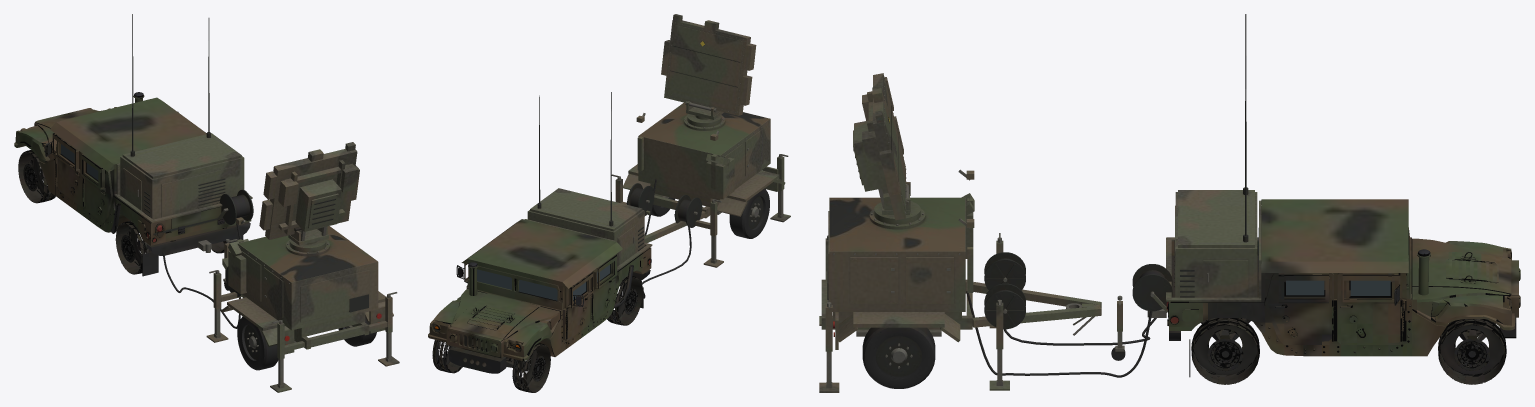
3 views of the same model, side by side, from view 1: azimuth 30°, elevation 25°; view 2: azimuth 150°, elevation 25°; view 3: azimuth 270°, elevation 25° (orthographic). The views are drawn at different scales.
Visible parts, largest first — view 1: body|SN_atlas, body|HUM_atlas, radar|SN_atlas; view 2: body|HUM_atlas, body|SN_atlas, radar|SN_atlas, body|HUM_glass; view 3: body|SN_atlas, body|HUM_atlas, radar|SN_atlas, body|HUM_glass.
Part boxes in pixels (x1=…): body|SN_atlas: x1=114, y1=14, x2=399, y2=392; body|HUM_atlas: x1=14, y1=92, x2=251, y2=274; radar|SN_atlas: x1=259, y1=142, x2=359, y2=252; body|HUM_atlas: x1=428, y1=219, x2=651, y2=392; body|SN_atlas: x1=524, y1=92, x2=790, y2=308; radar|SN_atlas: x1=661, y1=14, x2=756, y2=127; body|HUM_glass: x1=477, y1=264, x2=610, y2=300; body|SN_atlas: x1=819, y1=14, x2=1261, y2=392; body|HUM_atlas: x1=1166, y1=199, x2=1520, y2=384; radar|SN_atlas: x1=853, y1=73, x2=920, y2=224; body|HUM_glass: x1=1286, y1=280, x2=1390, y2=295.
Bounding box in the file's own units: 2.54 × 4.57 × 9.05.
Materials: 4 (3 with a texture image).
